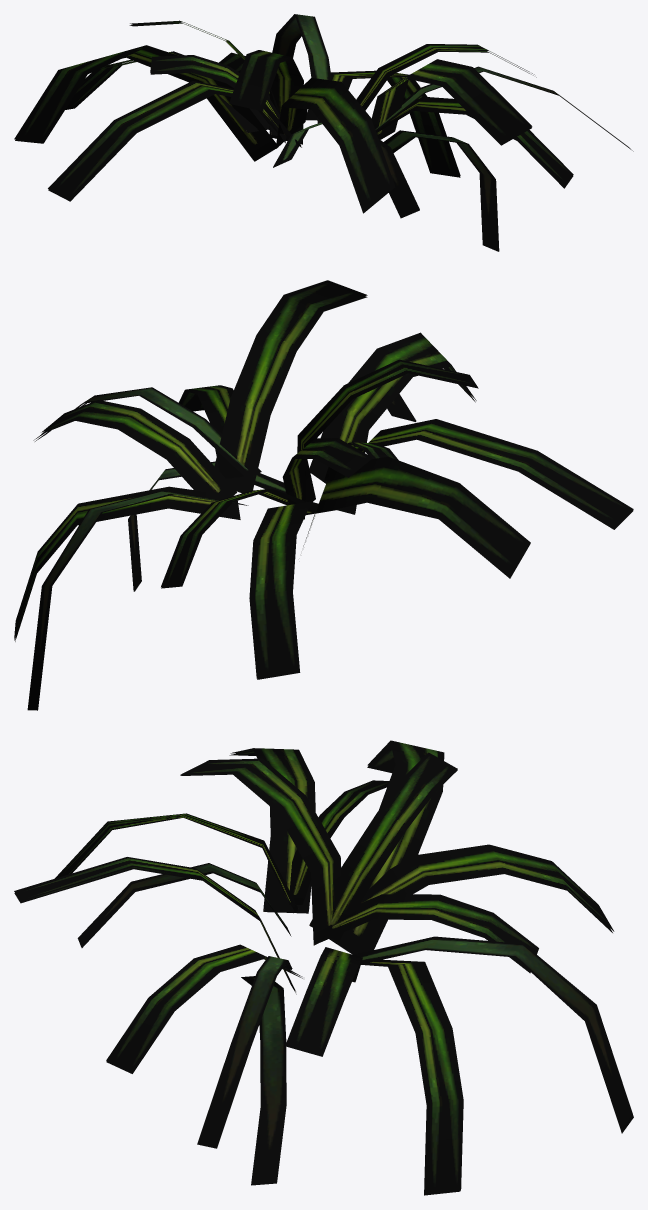
The model's file is plant_dracaena02_withered_leaves.dae.
3 views of the same model, one above another, from view 1: azimuth 30°, elevation 25°; view 2: azimuth 150°, elevation 25°; view 3: azimuth 270°, elevation 25° (orthographic). The views are drawn at different scales.
Parts seen in each view (by area): view 1: plant_dracaena04; view 2: plant_dracaena04; view 3: plant_dracaena04.
Boxes of the visible parts, x1=… form: plant_dracaena04: x1=14, y1=14, x2=633, y2=251; plant_dracaena04: x1=14, y1=280, x2=633, y2=710; plant_dracaena04: x1=14, y1=740, x2=633, y2=1195.
Bounding box in the file's own units: 0.4495 × 0.197 × 0.3817.
